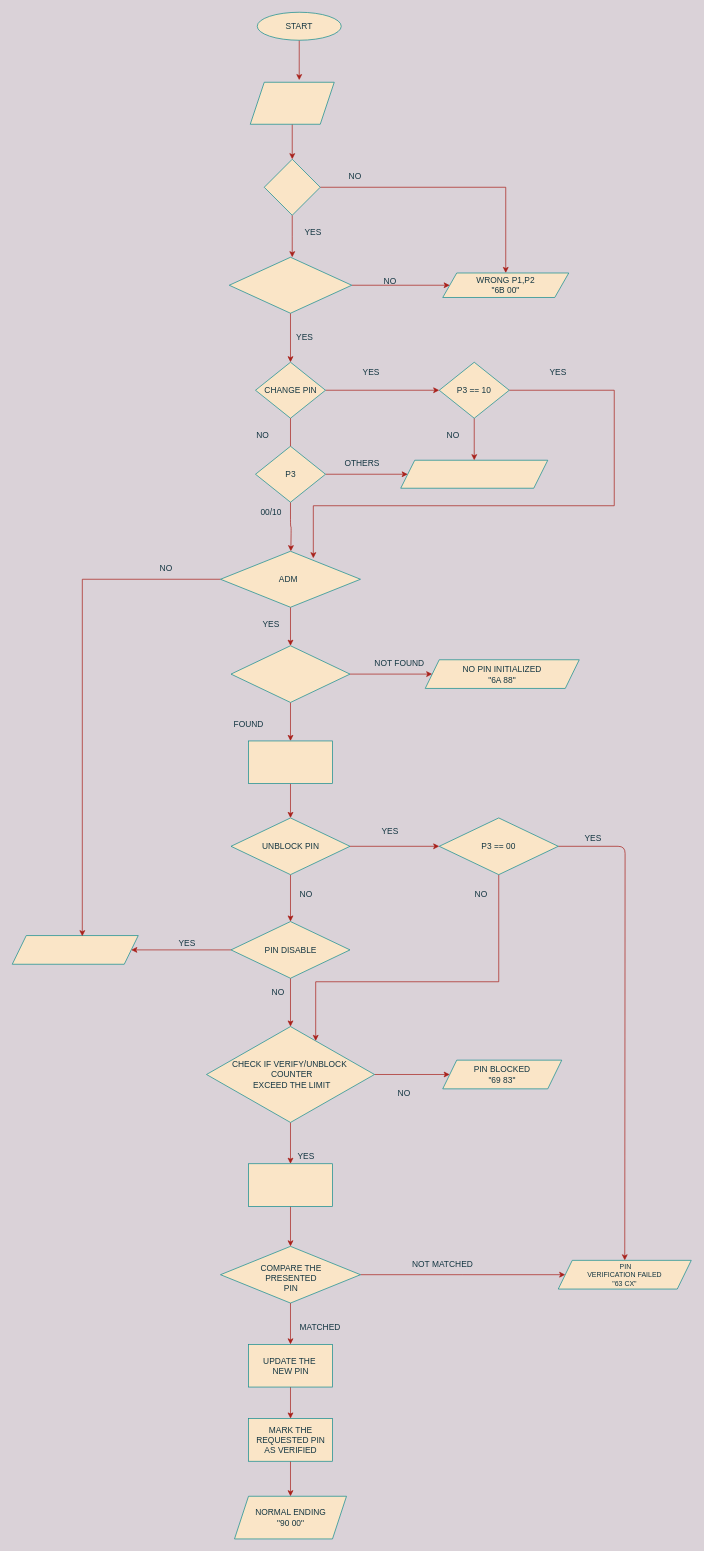
This 704x1551 diagram has some shape labels left out. Here are the shapes that lost their labels. From the top down, the box of each, then its label:
(250, 82, 334, 124): CHANGE/ UNBLOCK PIN
(264, 159, 320, 215): P1 = 00
(229, 257, 352, 313): VALID KEY REFERENCE IN P2
(400, 460, 548, 488): WRONG LENGTH "67 10"
(230, 645, 350, 702): SEARCH FOR GIVEN KEY REFERENCE
(248, 740, 332, 784): READ THE KEY CONFIGURATION
(12, 935, 138, 964): CONTRADICTS PIN "69 84"
(248, 1163, 332, 1206): DECREMENT THE VERIFY/UNBLOCK COUNTER
